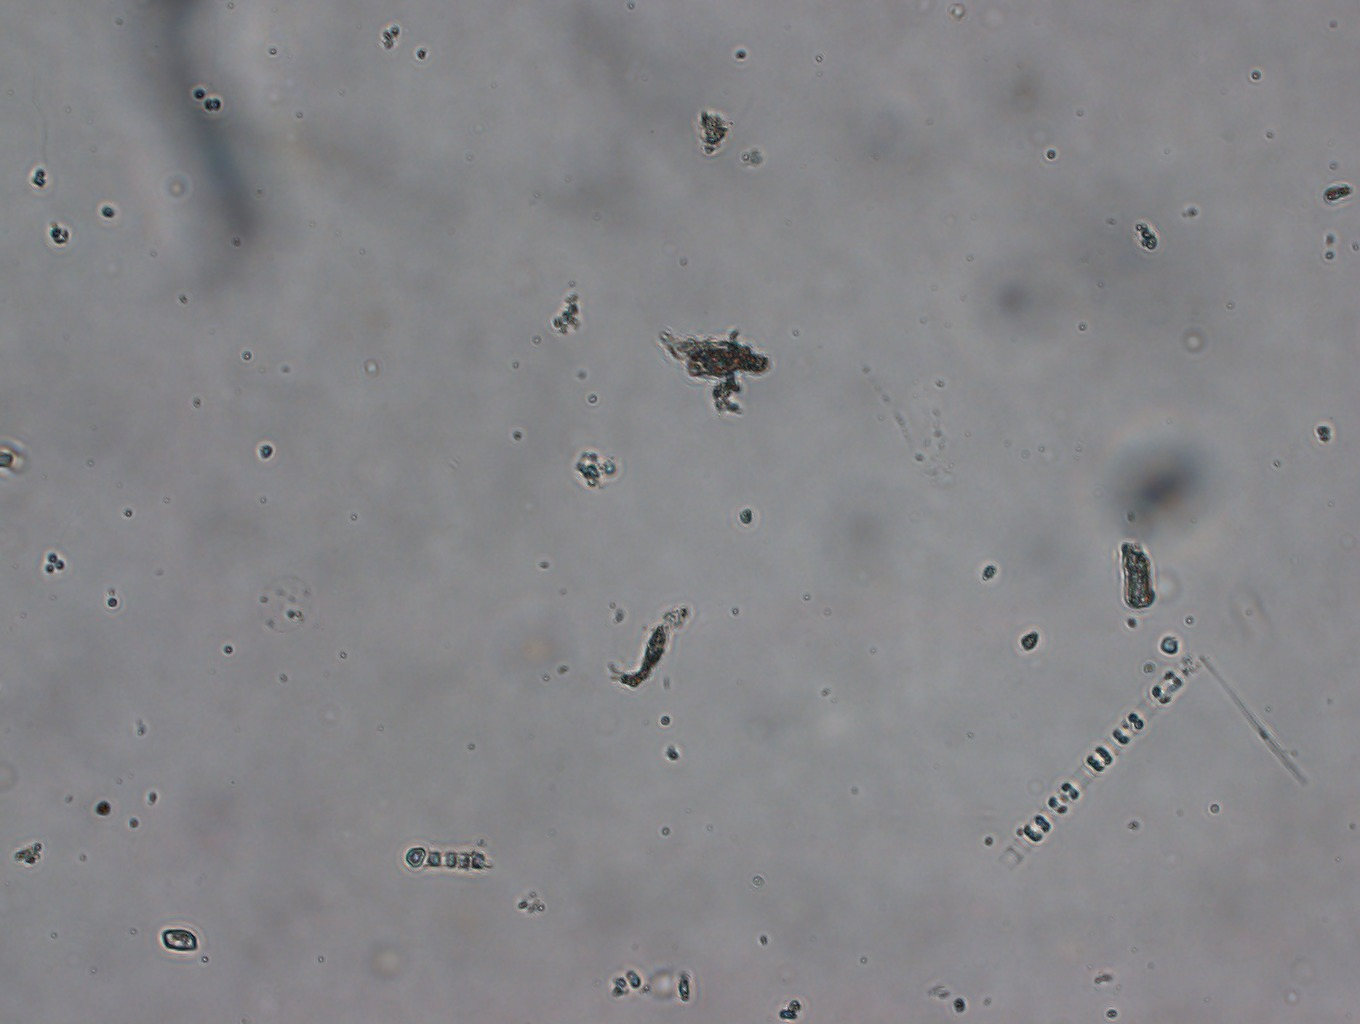skeletonema: (994, 639, 1212, 874)
